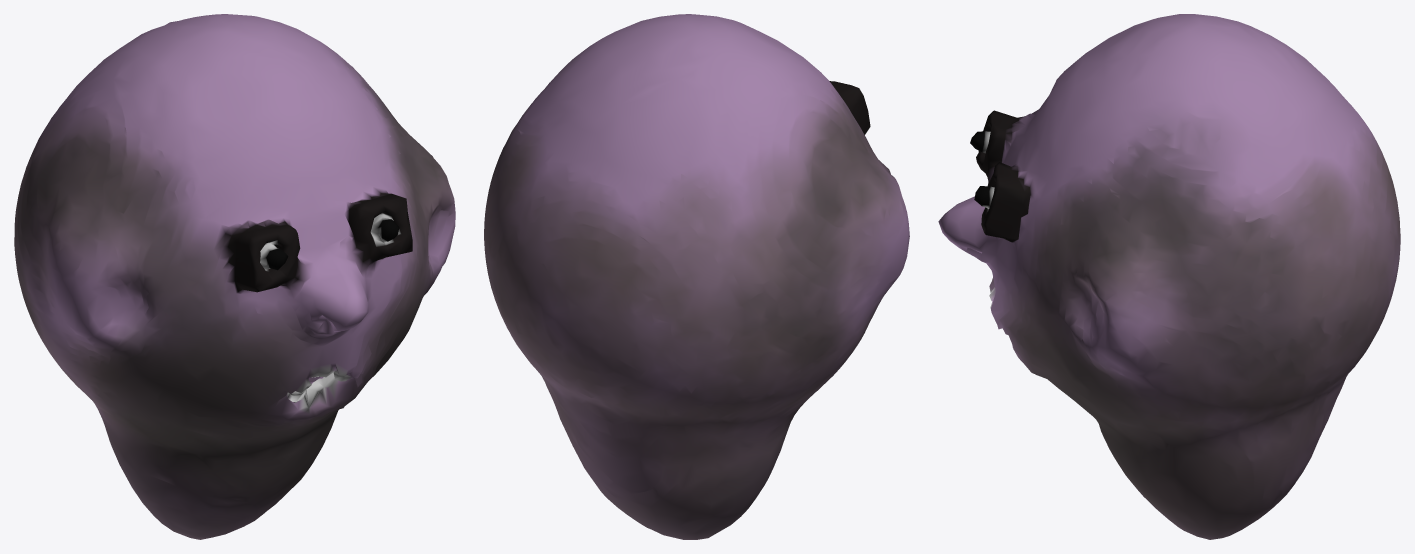
The model's file is eyt_dudehead1.gltf.
The picture shows the model from 3 angles, left to right: view 1: azimuth 30°, elevation 25°; view 2: azimuth 150°, elevation 25°; view 3: azimuth 270°, elevation 25°; orthographic projection. The views are drawn at different scales.
Visible parts, largest first — view 1: Layer_1; view 2: Layer_1; view 3: Layer_1.
Boxes of the visible parts, <box> form: Layer_1: <box>14,14,455,539</box>; Layer_1: <box>484,14,909,539</box>; Layer_1: <box>938,14,1400,539</box>.
Size of the model in its own units: 0.4186 by 0.5379 by 0.447.
